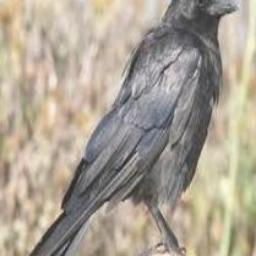Crow: (22, 0, 240, 256)
